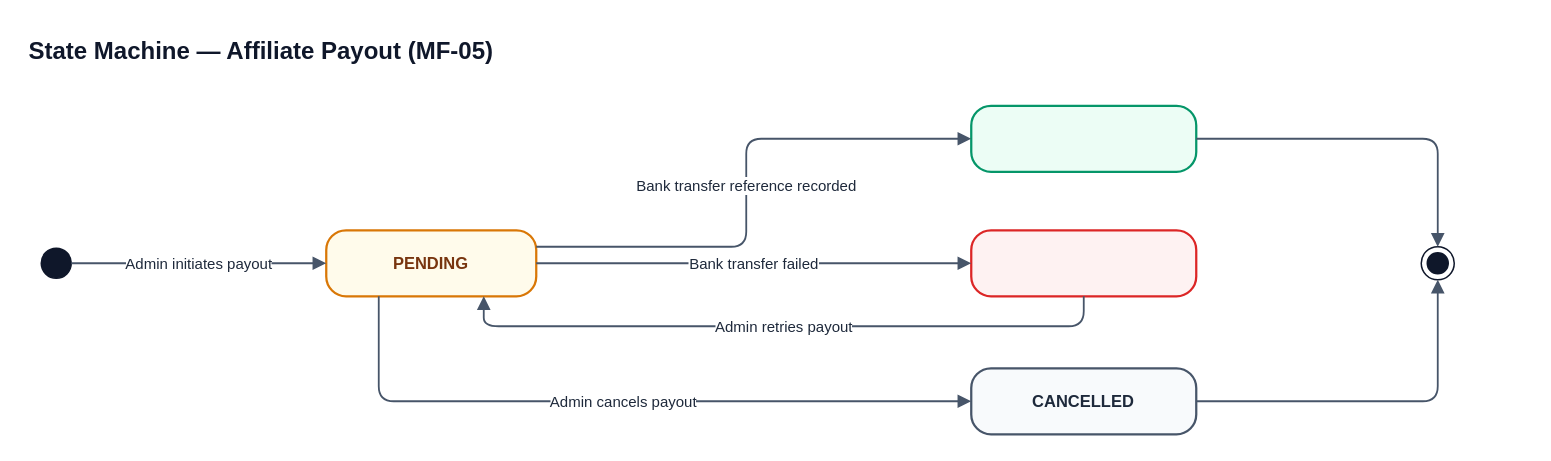
Some shapes in this 1551 by 461 pixel diagram are drawn without their labels. Each missing label, with the box of its shape:
COMPLETED: (969, 104, 1197, 172)
FAILED: (969, 228, 1197, 297)
